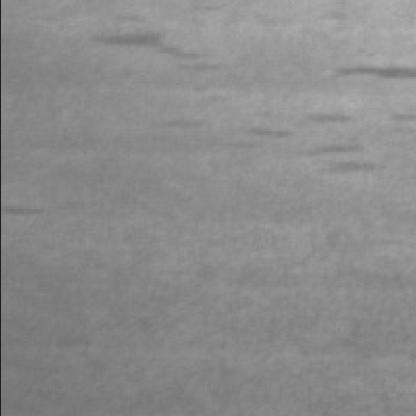inclusion: (239, 102, 416, 175), (85, 2, 235, 81), (206, 114, 300, 152), (331, 47, 416, 87), (6, 194, 54, 218)
